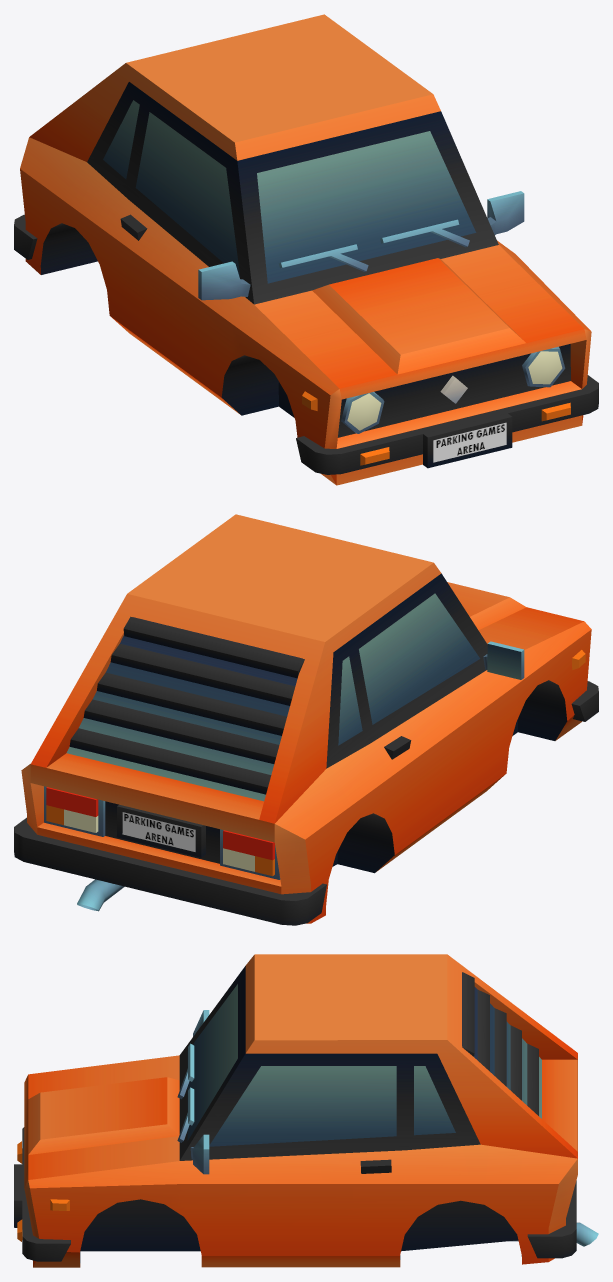
File: CAR_4.fbx
3 views of the same model, one above another, from view 1: azimuth 30°, elevation 25°; view 2: azimuth 150°, elevation 25°; view 3: azimuth 270°, elevation 25° (orthographic). The views are drawn at different scales.
Visible parts, largest first — view 1: SHTV_Model_Car_Hatchback; view 2: SHTV_Model_Car_Hatchback; view 3: SHTV_Model_Car_Hatchback.
Boxes of the visible parts, x1=… form: SHTV_Model_Car_Hatchback: x1=14, y1=14, x2=598, y2=485; SHTV_Model_Car_Hatchback: x1=14, y1=514, x2=598, y2=925; SHTV_Model_Car_Hatchback: x1=14, y1=954, x2=598, y2=1267.
Bounding box in the file's own units: 224 × 167 × 397.
